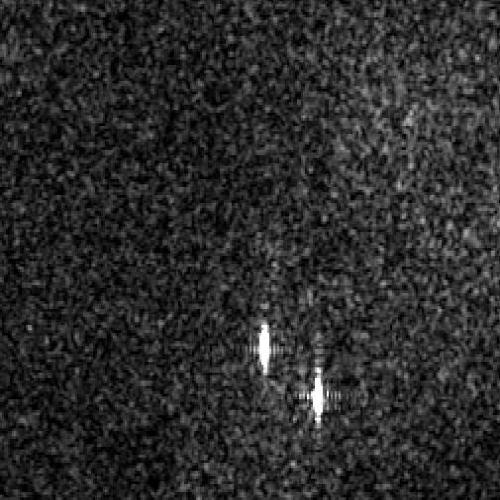ship: (312, 366, 324, 424), (258, 324, 271, 377)
